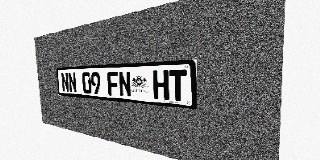0: (82, 72, 92, 94)
9: (90, 72, 101, 95)
F: (107, 71, 119, 96)
H: (153, 70, 169, 100)
N: (118, 71, 131, 97), (68, 72, 77, 93), (61, 72, 69, 92)
T: (169, 69, 187, 102)
